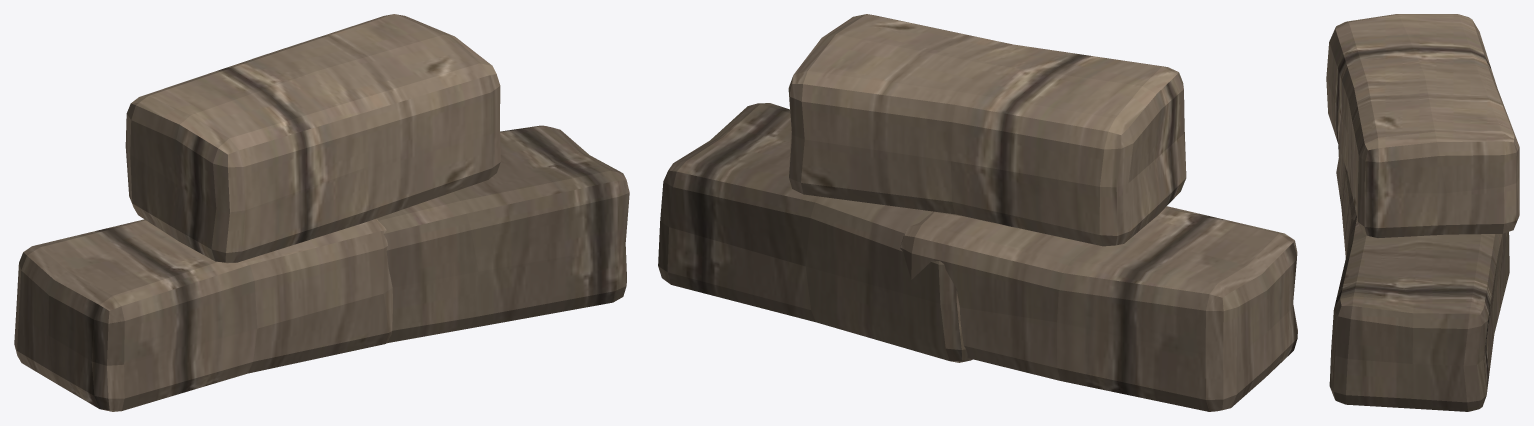
File: mushroom_brick.glb
3 views of the same model, side by side, from view 1: azimuth 30°, elevation 25°; view 2: azimuth 150°, elevation 25°; view 3: azimuth 270°, elevation 25° (orthographic). The views are drawn at different scales.
Parts seen in each view (by area): view 1: model; view 2: model; view 3: model.
Part boxes in pixels (bbox=[...]): model: bbox=[14, 14, 629, 411]; model: bbox=[658, 14, 1297, 411]; model: bbox=[1326, 14, 1519, 411].
Bounding box in the file's own units: 0.3581 × 0.1609 × 0.1245.
3 materials, 3 textured.
